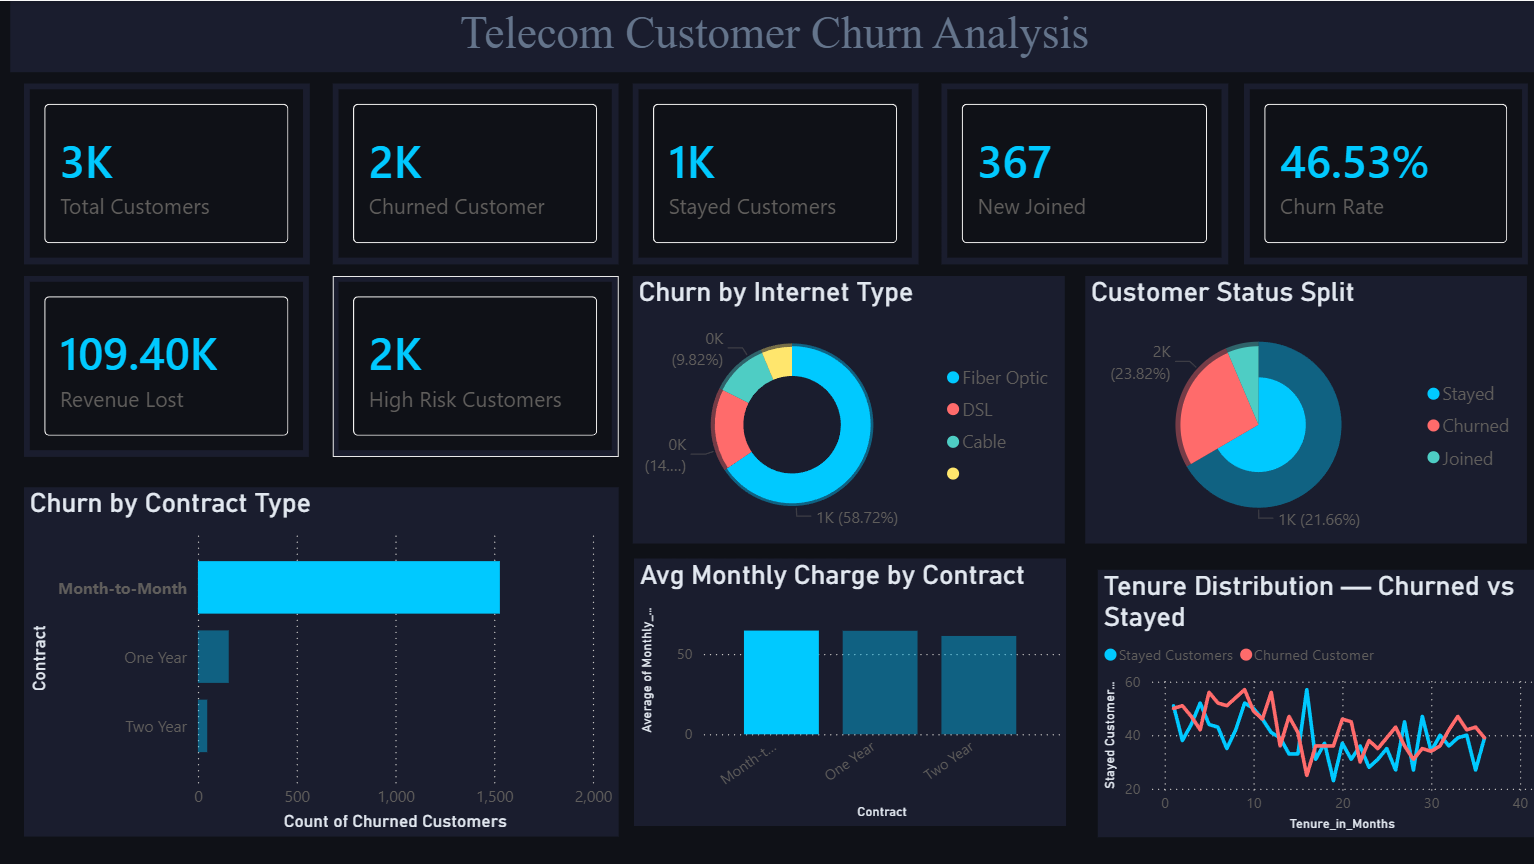

The page's visual inventory and layout, read from the dashboard file:
{"tool":"powerbi","page":{"name":"Summary","canvas":[1280,720],"ordinal":0},"visuals":[{"type":"textbox","box":[9.3,0,1270.9,59.3],"z":0},{"type":"cardVisual","fields":{"Data":["churn_db cleaned_churn.Total Customers"]},"box":[20.9,68.6,237.2,150],"z":1000},{"type":"cardVisual","fields":{"Data":["churn_db cleaned_churn.Churned Customer"]},"box":[277.9,68.6,237.2,150],"z":2000},{"type":"cardVisual","fields":{"Data":["churn_db cleaned_churn.Stayed Customers"]},"box":[526.7,68.6,237.2,150],"z":3000},{"type":"cardVisual","fields":{"Data":["churn_db cleaned_churn.New Joined"]},"box":[783.7,68.6,238.4,150],"z":4000},{"type":"cardVisual","fields":{"Data":["churn_db cleaned_churn.Churn Rate"]},"box":[1034.9,68.6,236,150],"z":5000},{"type":"clusteredBarChart","title":"Churn by Contract Type","fields":{"Category":["churn_db cleaned_churn.Contract"],"Y":["CountNonNull(churn_db cleaned_churn.Churned Customers)"]},"box":[20.9,404.7,494.2,290.7],"z":6000},{"type":"cardVisual","fields":{"Data":["churn_db cleaned_churn.Revenue Lost"]},"box":[21,229,237,150],"z":7000},{"type":"cardVisual","fields":{"Data":["churn_db cleaned_churn.High Risk Customers"]},"box":[278,229,237,150],"z":8000},{"type":"donutChart","title":"Churn by Internet Type","fields":{"Category":["churn_db cleaned_churn.Internet_Type"],"Y":["churn_db cleaned_churn.Churned Customer"]},"box":[526.7,229.1,359.3,222.1],"z":9000},{"type":"clusteredColumnChart","title":"Avg Monthly Charge by Contract","fields":{"Category":["churn_db cleaned_churn.Contract"],"Y":["Avg(churn_db cleaned_churn.Monthly_Charge)"]},"box":[527.9,464,359.3,222.1],"z":10000},{"type":"pieChart","title":"Customer Status Split","fields":{"Category":["churn_db cleaned_churn.Customer_Status"],"Y":["churn_db cleaned_churn.Total Customers"]},"box":[903.5,229.1,367.4,222.1],"z":11000},{"type":"lineChart","title":"Tenure Distribution — Churned vs Stayed","fields":{"Category":["churn_db cleaned_churn.Tenure_in_Months"],"Y":["churn_db cleaned_churn.Stayed Customers","churn_db cleaned_churn.Churned Customer"]},"box":[914,473.3,366.3,222.1],"z":12000}]}

Visuals, with their boxes in screenshot pixels (x1, y1, x2, y2), scaled from the page's 1280x720 canvas onto the 1534x864 screenshot:
textbox: crop(11, 0, 1533, 71)
cardVisual - churn_db cleaned_churn.Total Customers: crop(25, 82, 309, 262)
cardVisual - churn_db cleaned_churn.Churned Customer: crop(333, 82, 617, 262)
cardVisual - churn_db cleaned_churn.Stayed Customers: crop(631, 82, 915, 262)
cardVisual - churn_db cleaned_churn.New Joined: crop(939, 82, 1225, 262)
cardVisual - churn_db cleaned_churn.Churn Rate: crop(1240, 82, 1523, 262)
"Churn by Contract Type" clusteredBarChart: crop(25, 486, 617, 834)
cardVisual - churn_db cleaned_churn.Revenue Lost: crop(25, 275, 309, 455)
cardVisual - churn_db cleaned_churn.High Risk Customers: crop(333, 275, 617, 455)
"Churn by Internet Type" donutChart: crop(631, 275, 1062, 541)
"Avg Monthly Charge by Contract" clusteredColumnChart: crop(633, 557, 1063, 823)
"Customer Status Split" pieChart: crop(1083, 275, 1523, 541)
"Tenure Distribution — Churned vs Stayed" lineChart: crop(1095, 568, 1533, 834)
